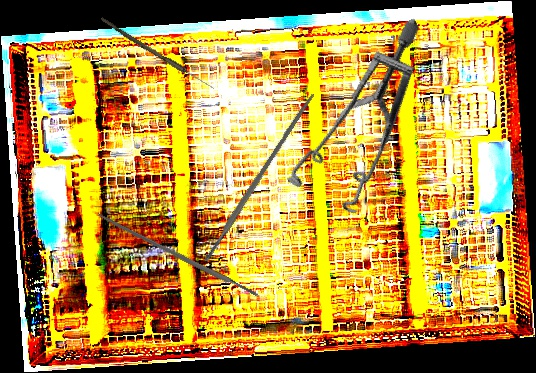Scalpel Handle: (201, 91, 317, 263), (95, 211, 261, 300)
Speculum: (248, 18, 483, 234)
Surgical Spoon: (98, 17, 217, 91)
